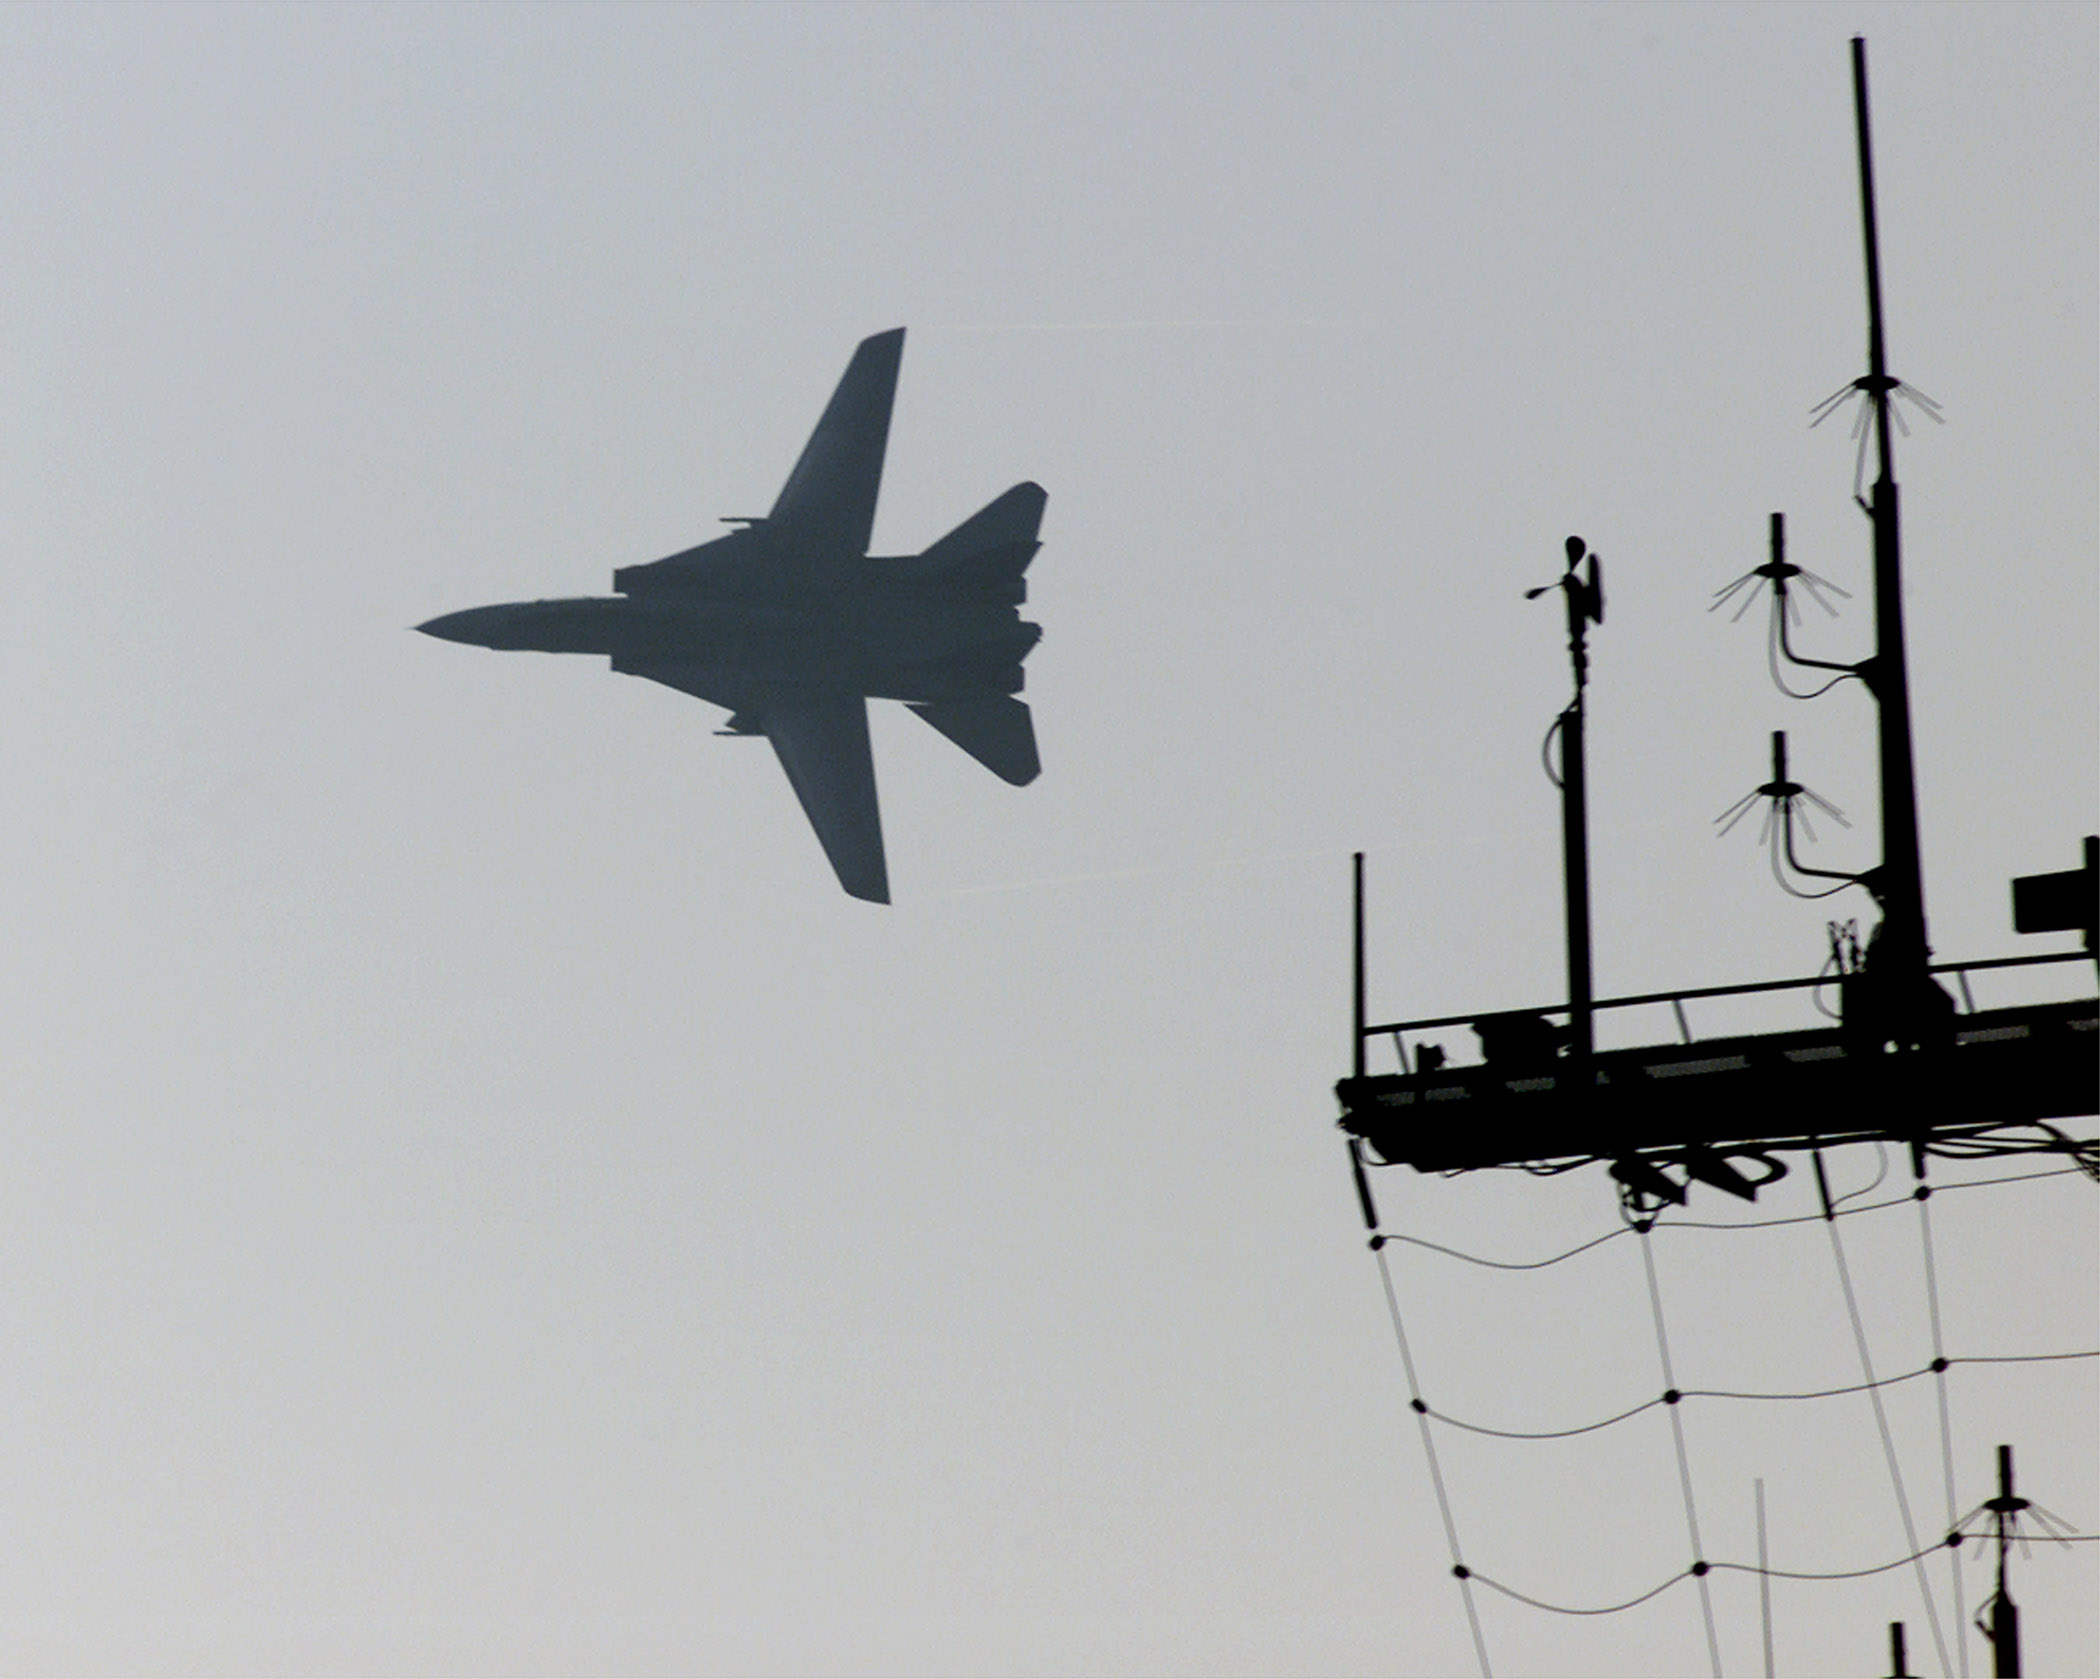F14: (401, 326, 1050, 906)
